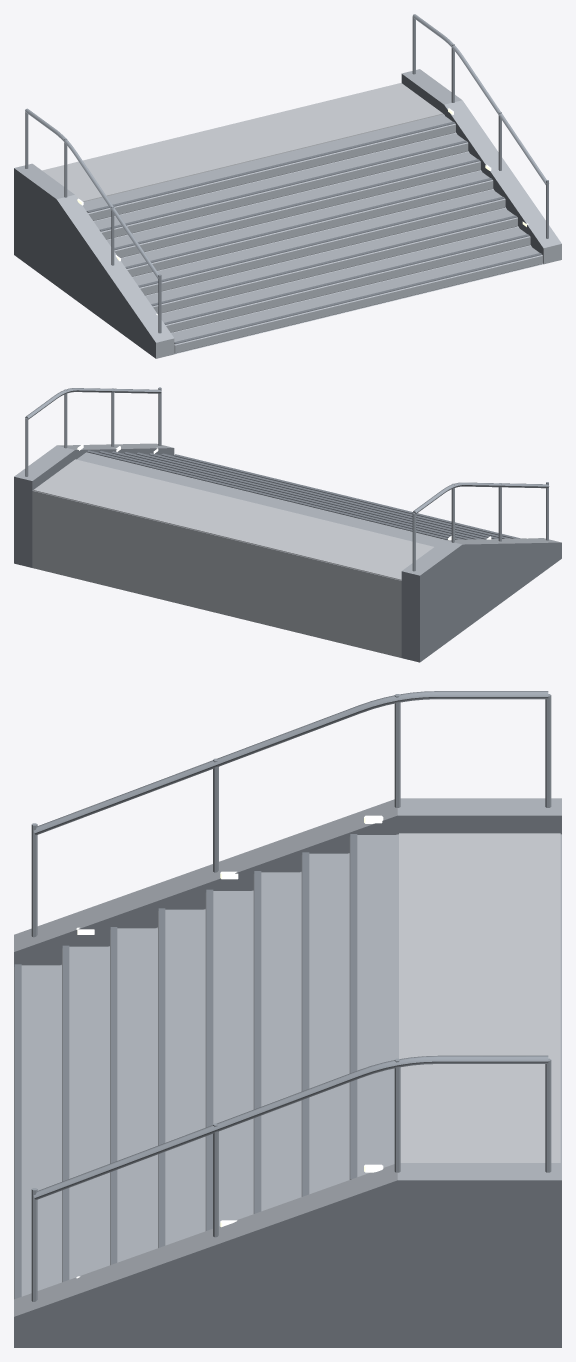
File: escada_praca_larga.glb
3 views of the same model, one above another, from view 1: azimuth 30°, elevation 25°; view 2: azimuth 150°, elevation 25°; view 3: azimuth 270°, elevation 25° (orthographic). The views are drawn at different scales.
Parts seen in each view (by area): view 1: escada_praca_larga, colisao_rampa; view 2: escada_praca_larga, colisao_rampa; view 3: escada_praca_larga, colisao_rampa.
Boxes of the visible parts, box(x1,y1,x2,y2) form: escada_praca_larga: box(14, 14, 561, 358); colisao_rampa: box(84, 114, 542, 354); escada_praca_larga: box(14, 387, 561, 662); colisao_rampa: box(32, 490, 401, 657); escada_praca_larga: box(14, 691, 561, 1347); colisao_rampa: box(60, 834, 561, 1162).
Size of the model in its own units: 6.6 by 2.28 by 4.
Materials: 2 (1 with a texture image).
